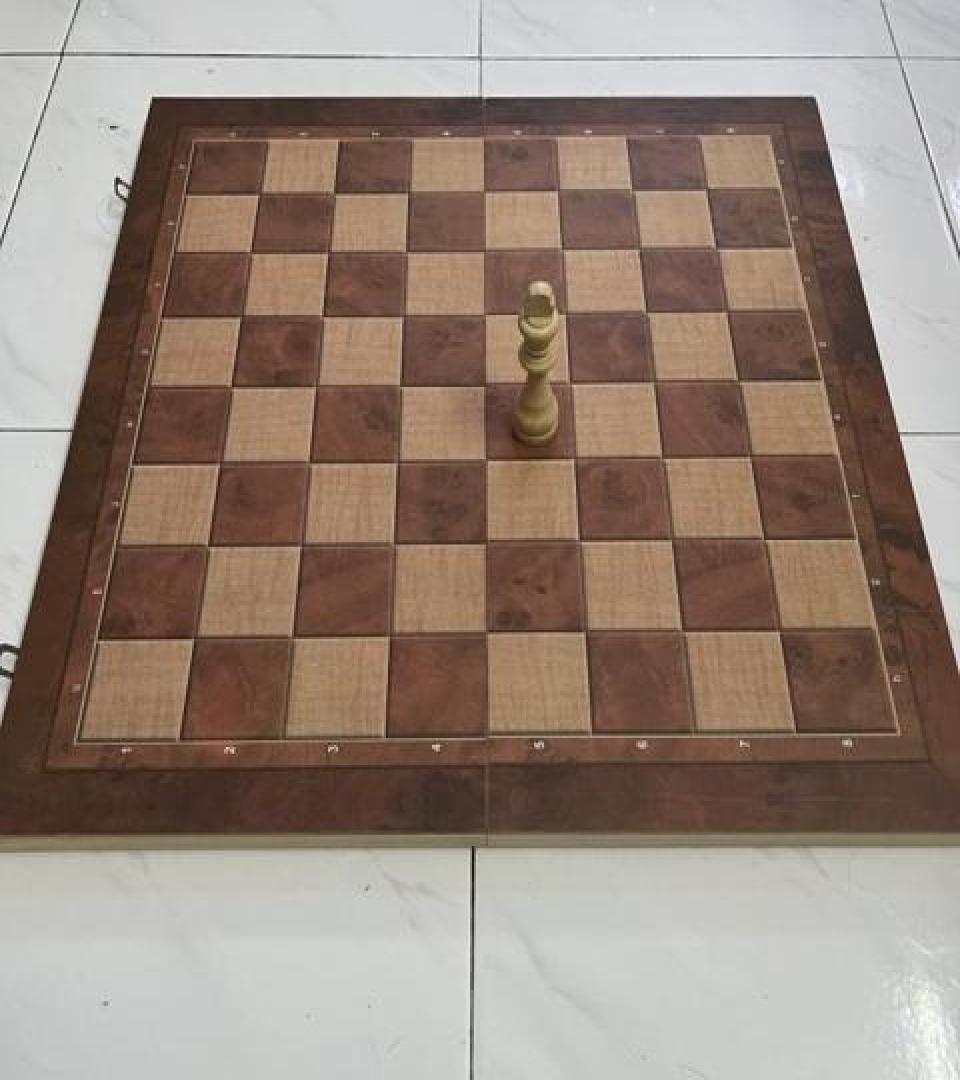xcorner: (538, 173, 572, 212), (464, 174, 498, 213), (390, 175, 424, 214), (316, 175, 350, 214), (706, 291, 740, 330), (642, 436, 676, 475), (687, 171, 721, 209), (612, 172, 646, 210), (242, 177, 276, 215), (696, 228, 730, 266), (619, 230, 653, 268), (542, 231, 576, 269), (464, 232, 498, 270), (387, 233, 421, 271), (310, 234, 344, 272), (233, 235, 267, 273), (626, 292, 660, 330), (545, 294, 579, 332), (465, 295, 499, 333), (385, 296, 419, 334), (304, 297, 338, 335), (224, 298, 258, 336), (717, 360, 751, 398), (633, 362, 667, 400), (549, 364, 583, 402), (465, 364, 499, 402), (382, 366, 416, 404), (298, 367, 332, 405), (214, 368, 248, 406), (730, 436, 764, 474), (554, 438, 588, 476), (466, 439, 500, 477), (378, 440, 412, 478), (290, 441, 324, 479), (203, 444, 237, 482), (743, 518, 777, 556), (651, 519, 685, 557), (559, 521, 593, 559), (467, 522, 501, 560), (375, 523, 409, 561), (283, 524, 317, 562), (191, 526, 225, 564), (758, 609, 792, 647), (661, 610, 695, 648), (564, 611, 598, 649), (467, 612, 501, 650), (371, 613, 405, 651), (274, 616, 308, 654), (177, 616, 211, 654)
